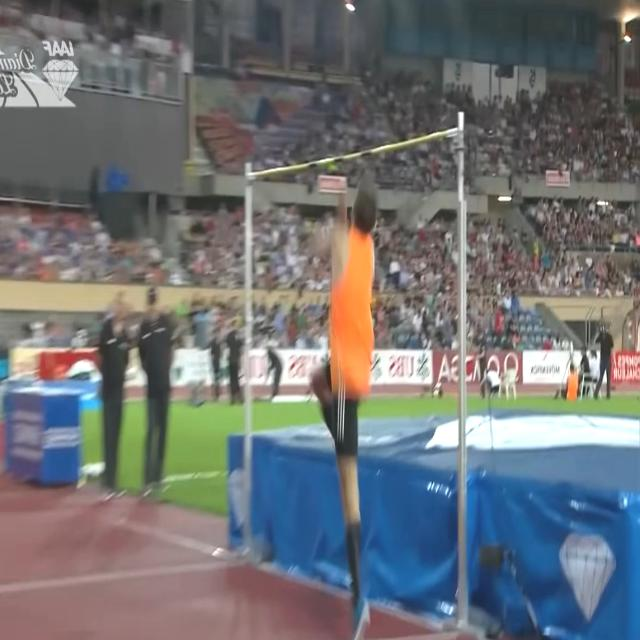jump: (312, 170, 374, 640)
